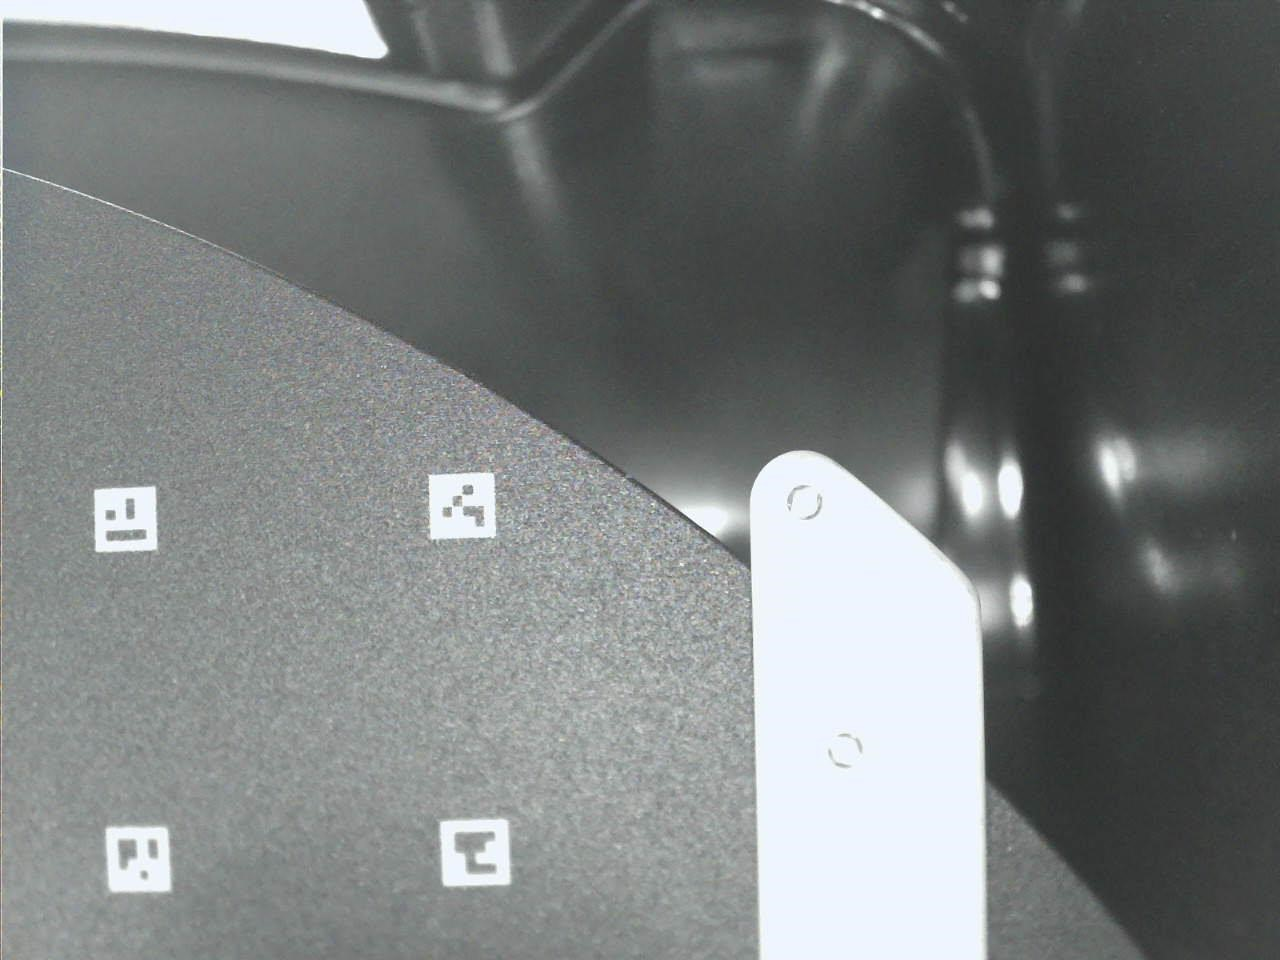forktip: (733, 421, 1018, 960)
